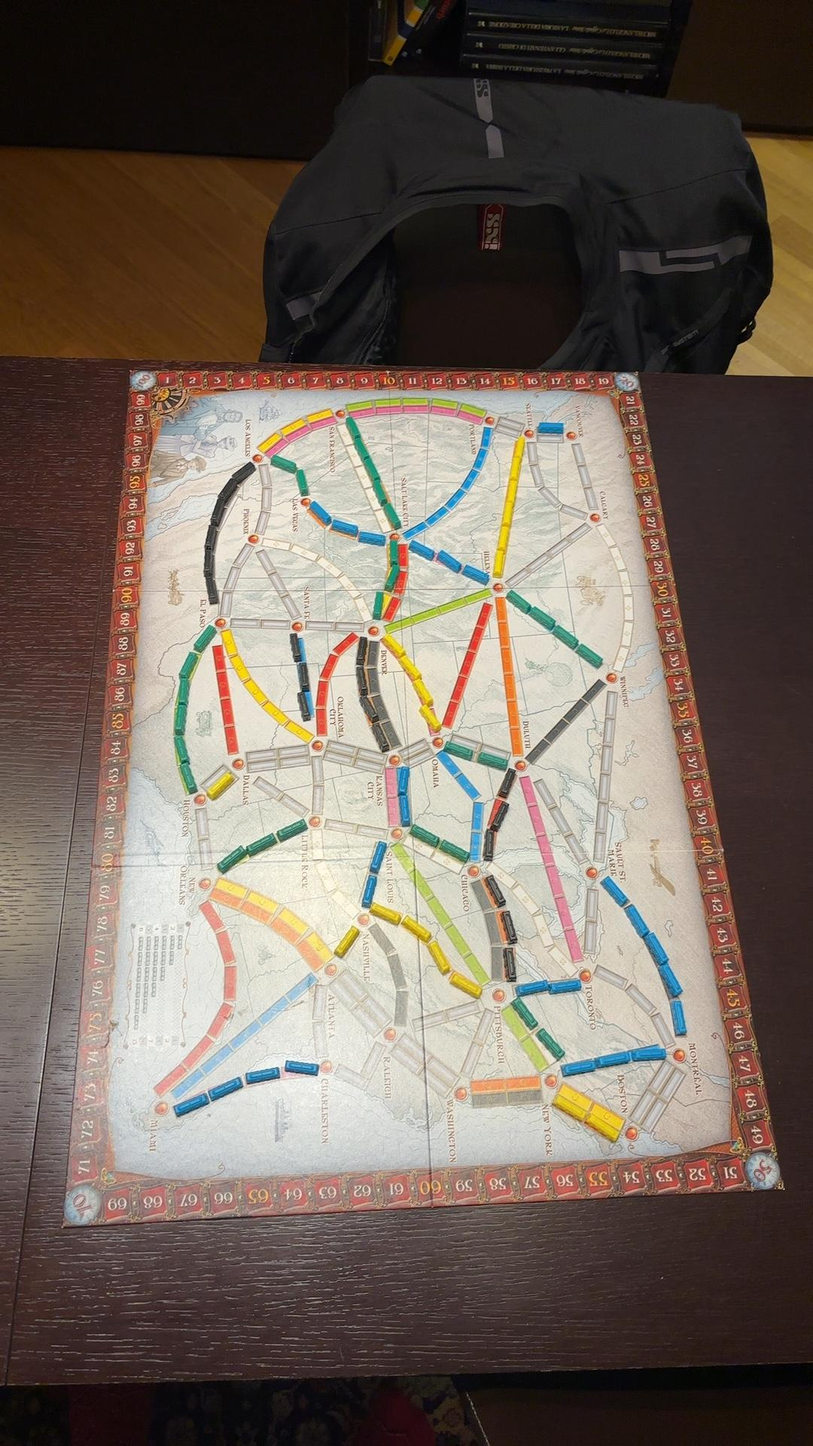black_train: (483, 875, 505, 907), (498, 909, 517, 944), (372, 723, 393, 752), (497, 768, 516, 798), (360, 694, 378, 721), (489, 804, 507, 830), (483, 828, 495, 861), (297, 691, 310, 720), (297, 661, 309, 690), (504, 947, 514, 981), (291, 635, 303, 662)
blue_train: (644, 932, 668, 966), (601, 878, 629, 906), (209, 1077, 242, 1100), (659, 964, 681, 998), (626, 905, 649, 937), (176, 1093, 209, 1115), (595, 1051, 630, 1068), (671, 1000, 687, 1036), (246, 1067, 279, 1084), (436, 550, 462, 571), (516, 980, 550, 996), (562, 1060, 595, 1075), (370, 842, 385, 874), (550, 978, 581, 993), (285, 1061, 318, 1075), (632, 1046, 665, 1060), (310, 502, 330, 525), (410, 541, 434, 560), (362, 876, 376, 908), (333, 519, 358, 536), (464, 566, 488, 583), (358, 532, 385, 545), (537, 422, 562, 436)
green_train: (536, 1028, 564, 1060), (218, 847, 247, 873), (511, 1000, 537, 1029), (247, 833, 278, 856), (278, 819, 307, 841), (194, 625, 217, 652), (553, 625, 578, 649), (577, 643, 602, 667), (477, 749, 507, 769), (443, 739, 473, 759), (529, 608, 556, 630), (173, 697, 187, 734), (180, 652, 199, 678), (507, 590, 529, 612), (180, 764, 196, 793), (269, 455, 295, 471), (384, 503, 400, 529), (174, 736, 188, 765), (372, 591, 385, 619), (297, 468, 309, 497), (384, 565, 397, 591), (178, 679, 188, 702), (389, 538, 397, 564)
yellow_train: (449, 972, 482, 998), (207, 770, 235, 799), (553, 1098, 586, 1121), (402, 915, 431, 941), (335, 926, 359, 956), (428, 940, 449, 974), (588, 1118, 617, 1141), (370, 903, 401, 924), (420, 705, 440, 731), (383, 635, 405, 657), (400, 655, 419, 679), (416, 681, 432, 704)
